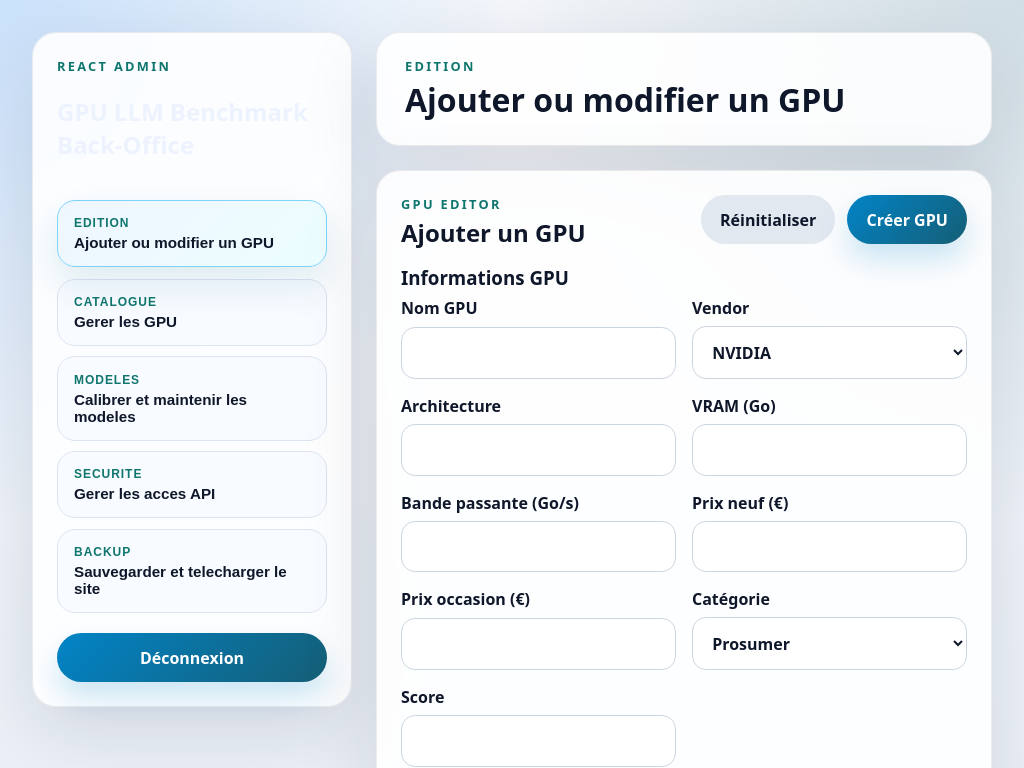
Test case: AdminApp › affiche le back-office React avec navigation laterale
Expected: the heading "Ajouter un GPU" is shown, [401,216,586,249]
Expected: the navigation bar named "Navigation administration" is shown, [57,201,327,613]
Click the button "Securite Gerer les acces API" at (192, 485), box [57,451,327,518]
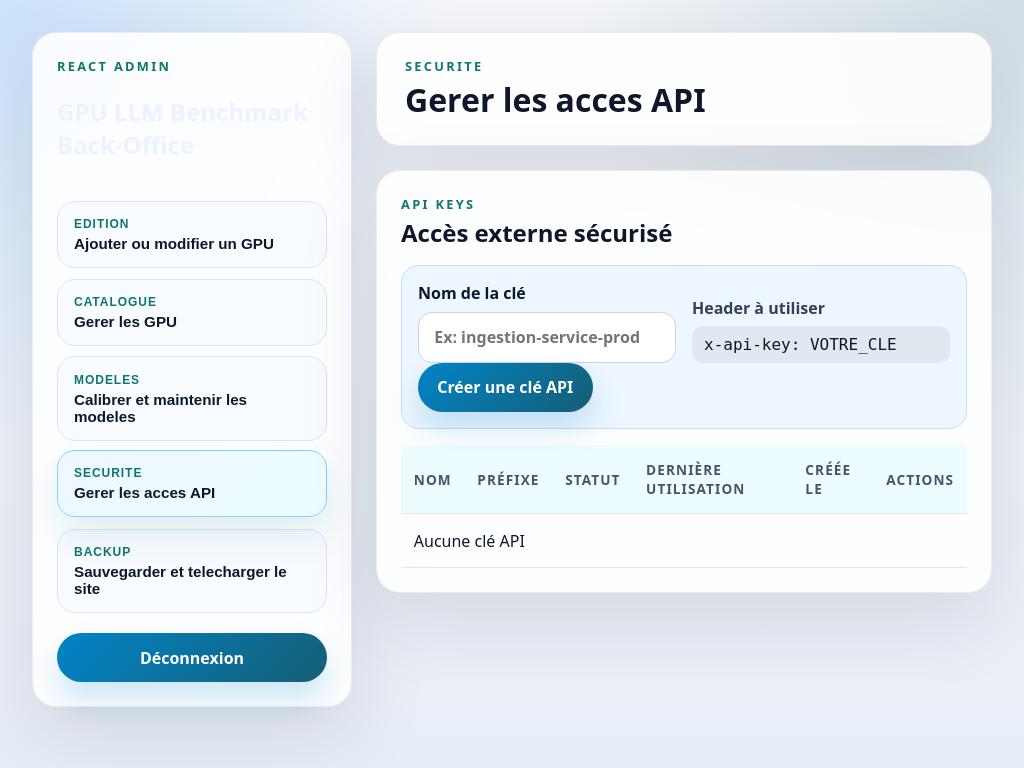
Expected: the heading "Accès externe sécurisé" is shown, [401,216,672,249]
